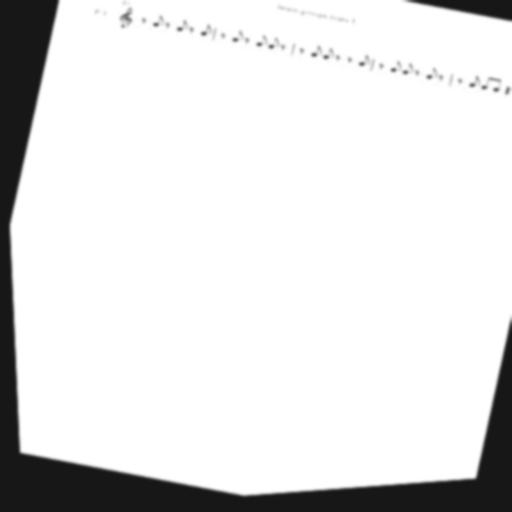eighth_note: (151, 15, 165, 30), (400, 67, 414, 82), (254, 37, 268, 51), (199, 25, 212, 40), (231, 31, 244, 46), (266, 39, 279, 54), (309, 48, 322, 63), (357, 58, 370, 73), (389, 64, 402, 79), (424, 72, 437, 87), (467, 81, 480, 96), (321, 51, 334, 65), (176, 20, 188, 35), (479, 83, 489, 97), (491, 86, 500, 100)
eighth_rest: (297, 52, 304, 59), (412, 76, 418, 83), (436, 81, 442, 88), (455, 85, 461, 92), (140, 20, 146, 26), (164, 25, 170, 31), (187, 30, 193, 36), (278, 49, 284, 55), (333, 60, 339, 66), (345, 63, 351, 69), (219, 36, 224, 42), (243, 41, 248, 47), (377, 69, 382, 75)
note_head: (175, 29, 183, 34), (152, 24, 159, 29), (309, 57, 316, 62), (467, 90, 474, 95), (479, 92, 486, 97), (267, 48, 273, 53), (199, 34, 206, 38), (231, 41, 238, 45), (321, 60, 328, 64), (357, 67, 364, 71), (389, 74, 396, 78), (491, 95, 498, 99), (255, 46, 261, 50), (401, 76, 407, 80), (425, 81, 431, 85)
quarter_rest: (502, 93, 510, 103)
staff: (116, 0, 512, 130)
treble_clef: (117, 7, 135, 32)
